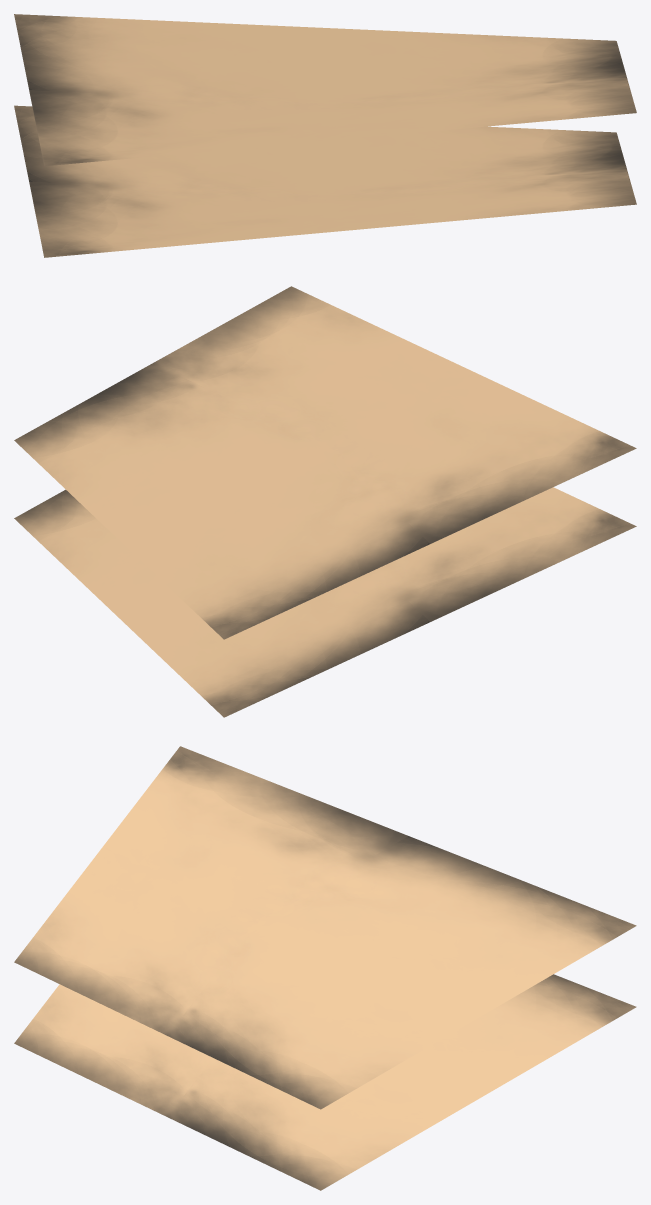
File: CourseSummer_CurveFloor_7_2.fbx
3 renders of one model, top to bottom at view 1: azimuth 30°, elevation 25°; view 2: azimuth 150°, elevation 25°; view 3: azimuth 270°, elevation 25°, orthographic. The views are drawn at different scales.
Visible parts, largest first — view 1: polySurface368; view 2: polySurface368; view 3: polySurface368.
Boxes of the visible parts, bbox=[...] form: polySurface368: bbox=[14, 14, 636, 257]; polySurface368: bbox=[14, 286, 636, 717]; polySurface368: bbox=[14, 746, 636, 1190].
Bounding box in the file's own units: 7.45 × 2 × 6.95.
Materials: 1 (1 with a texture image).
